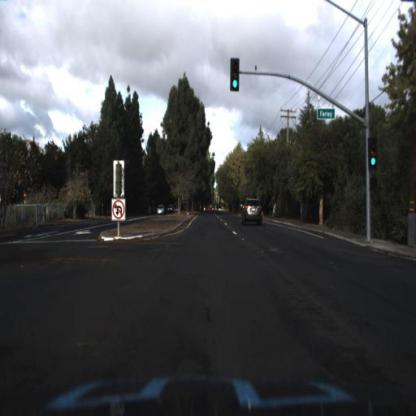car: (242, 196, 265, 225), (159, 204, 167, 217), (168, 205, 174, 215)
trafficLight-Green: (232, 61, 242, 92)
